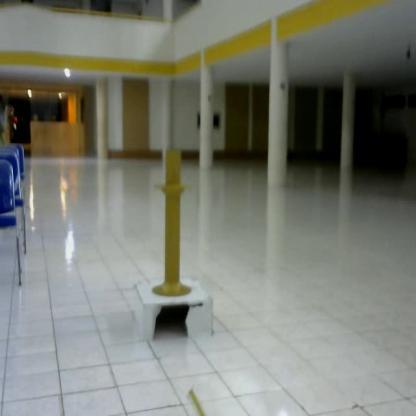pole: (148, 141, 204, 304)
